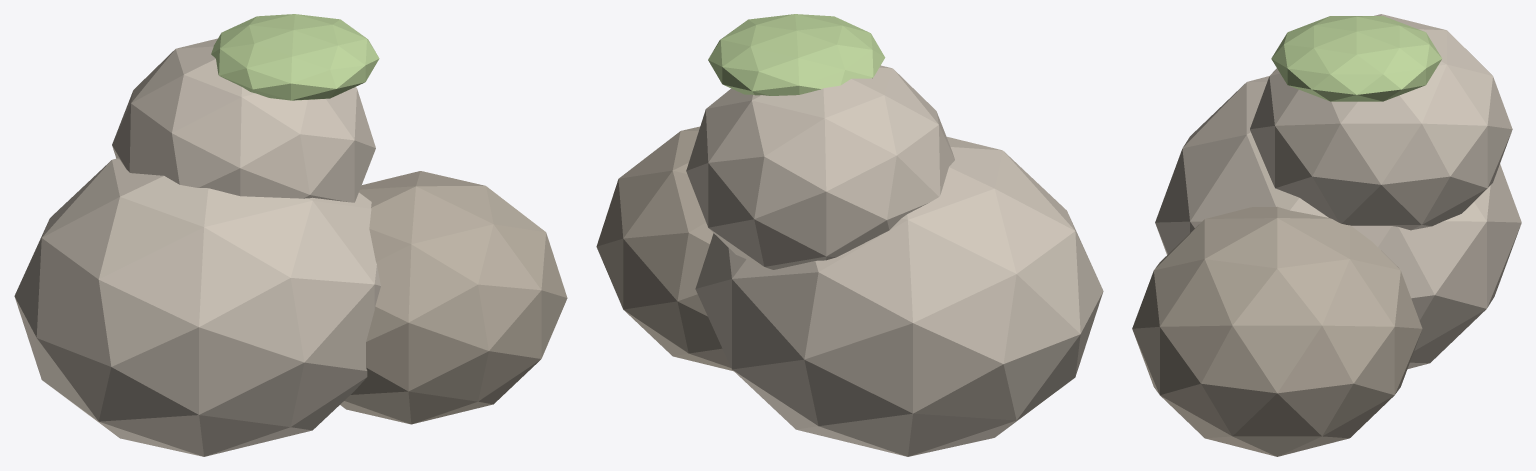
File: rock_02.glb
3 renders of one model, left to right at view 1: azimuth 30°, elevation 25°; view 2: azimuth 150°, elevation 25°; view 3: azimuth 270°, elevation 25°, orthographic. The views are drawn at different scales.
Parts seen in each view (by area): view 1: rock_a, rock_b, rock_c, moss; view 2: rock_a, rock_c, rock_b, moss; view 3: rock_b, rock_c, rock_a, moss.
Part boxes in pixels (x1,y1,x2,y2): rock_a: (14, 158, 380, 456); rock_b: (340, 171, 567, 424); rock_c: (112, 38, 375, 202); moss: (211, 14, 379, 100); rock_a: (695, 137, 1103, 456); rock_c: (686, 65, 954, 269); rock_b: (596, 126, 733, 371); moss: (708, 14, 885, 95); rock_b: (1132, 206, 1422, 456); rock_c: (1250, 14, 1512, 230); rock_a: (1155, 76, 1521, 369); moss: (1271, 16, 1442, 101).
Bounding box in the file's own units: 1.87 × 1.4 × 1.31.
